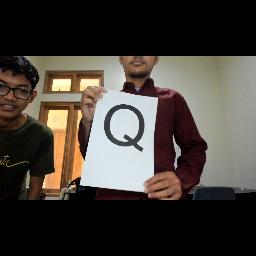q: (101, 100, 151, 156)
